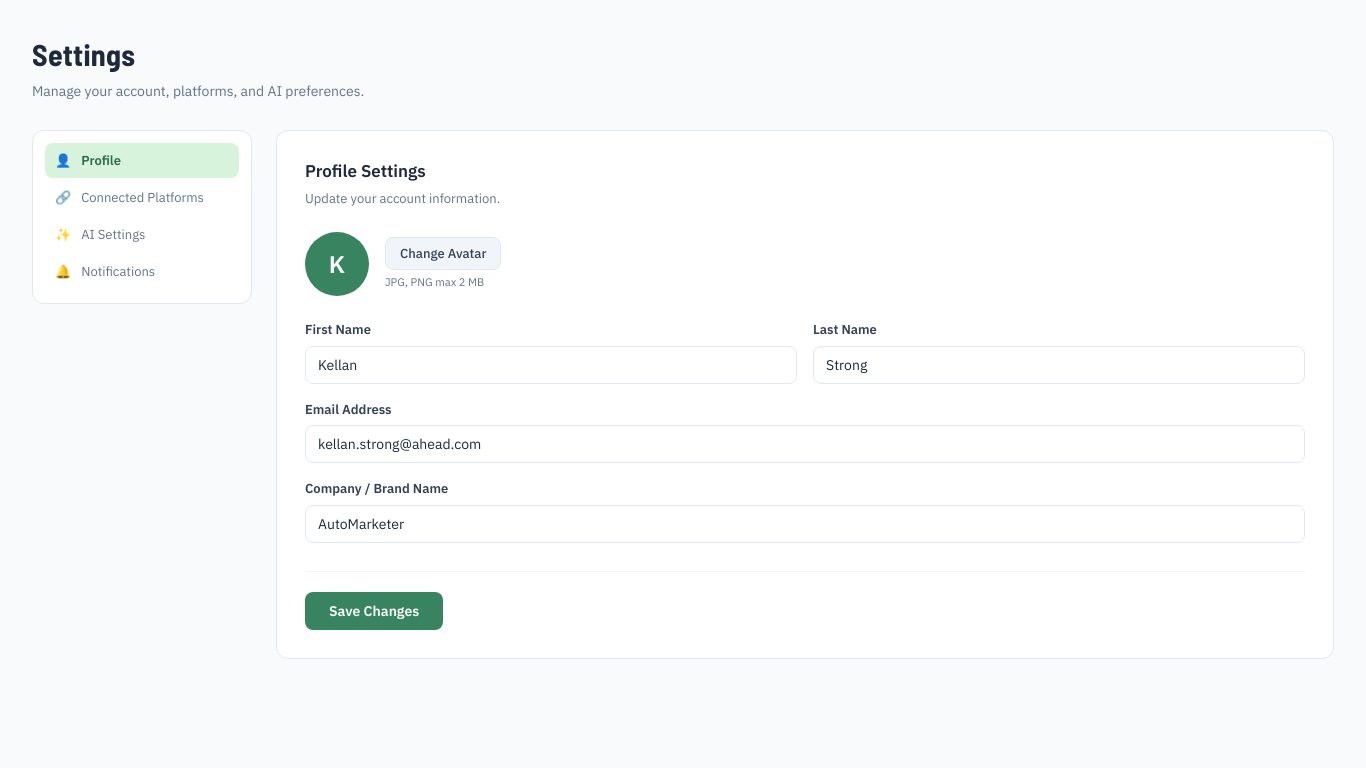
Settings – Notifications tab › shows all five notification rows when the tab is active
Click the text "Notifications" at {"x": 118, "y": 272}, box x1=81 y1=263 x2=155 y2=280
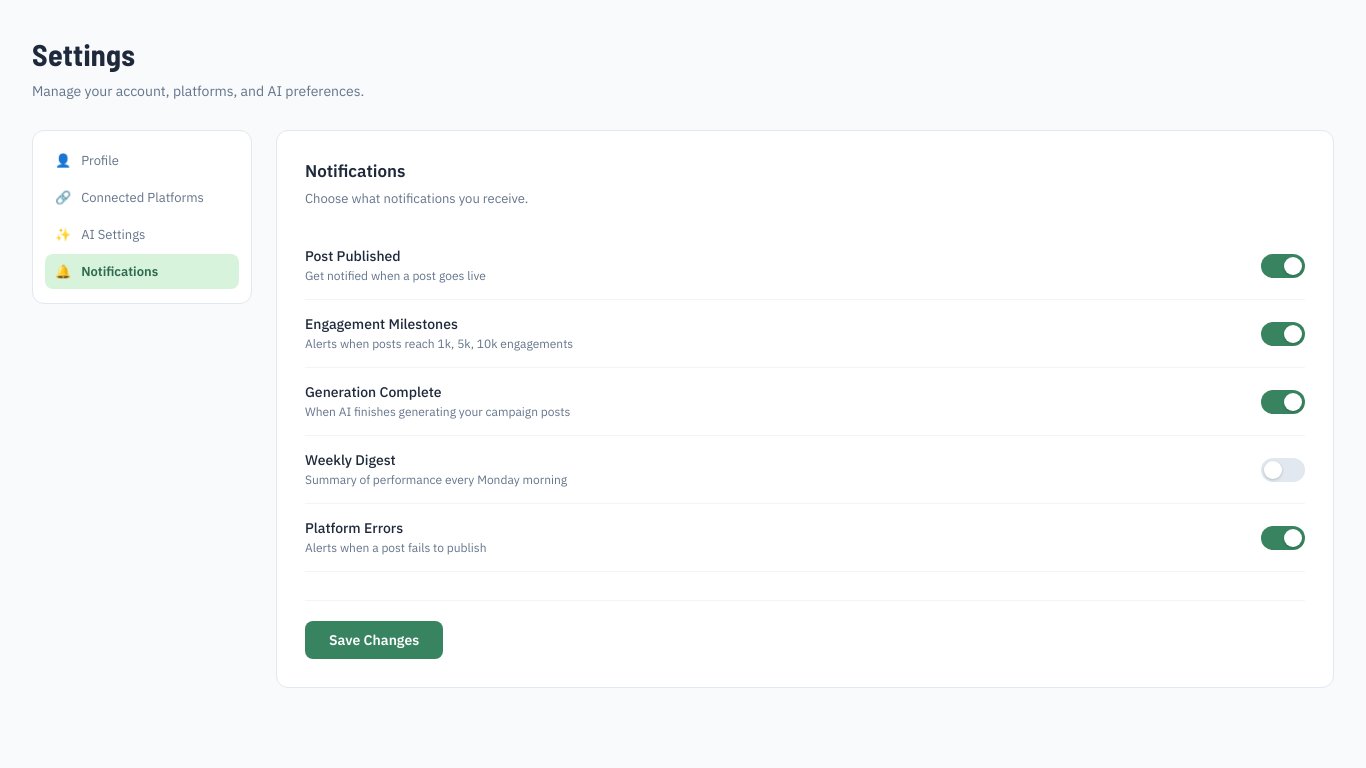
Now the text "Post Published" is shown, box x1=305 y1=247 x2=401 y2=265
Now the text "Engagement Milestones" is shown, box x1=305 y1=315 x2=458 y2=333
Now the text "Generation Complete" is shown, box x1=305 y1=383 x2=442 y2=401
